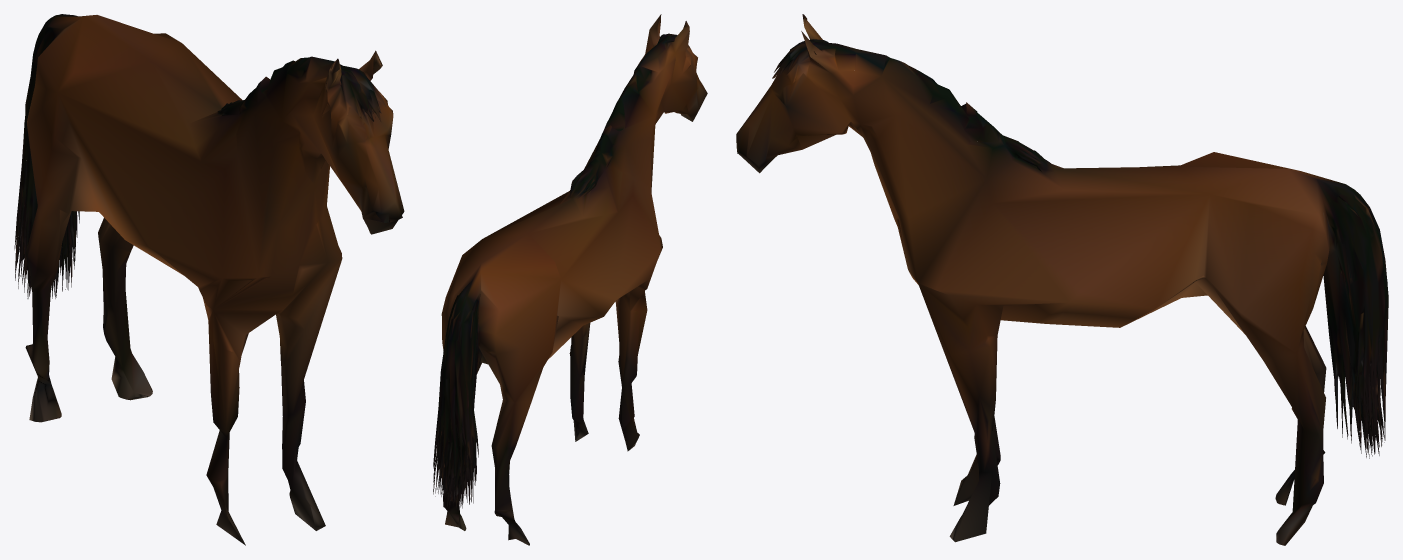
File: horse_far.glb
The picture shows the model from 3 angles, left to right: view 1: azimuth 30°, elevation 25°; view 2: azimuth 150°, elevation 25°; view 3: azimuth 270°, elevation 25°; orthographic projection. The views are drawn at different scales.
Parts seen in each view (by area): view 1: horse; view 2: horse; view 3: horse.
Boxes of the visible parts, <box> form: horse: <box>14,14,404,545</box>; horse: <box>433,14,707,545</box>; horse: <box>736,14,1388,545</box>.
Bounding box in the file's own units: 0.5428 × 2.01 × 2.39.
